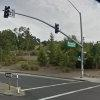Traffic light: (1, 1, 15, 21)
